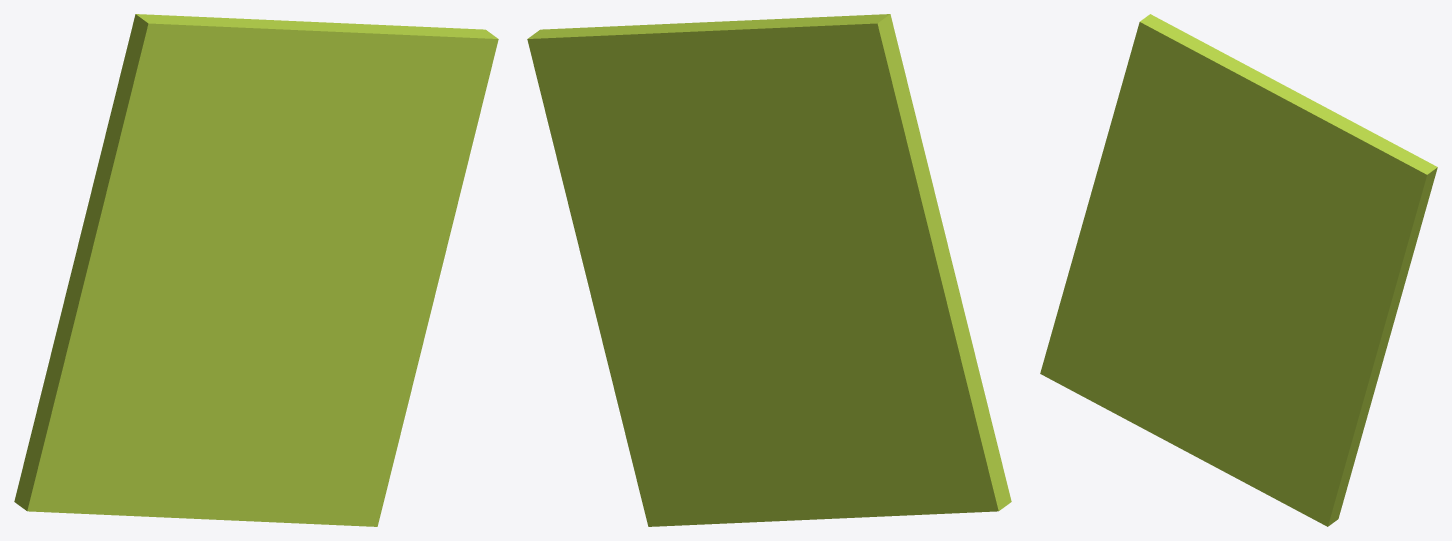
The picture shows the model from 3 angles, left to right: view 1: azimuth 30°, elevation 25°; view 2: azimuth 150°, elevation 25°; view 3: azimuth 330°, elevation 25°; orthographic projection. The views are drawn at different scales.
Parts seen in each view (by area): view 1: osm-way27917482-F1; view 2: osm-way27917482-F1; view 3: osm-way27917482-F1.
Part boxes in pixels (left/top/right/bottom): osm-way27917482-F1: left=14, top=14, right=498, bottom=526; osm-way27917482-F1: left=527, top=14, right=1011, bottom=526; osm-way27917482-F1: left=1040, top=14, right=1437, bottom=526.
Bounding box in the file's own units: 3.15 × 3.57 × 0.15.
